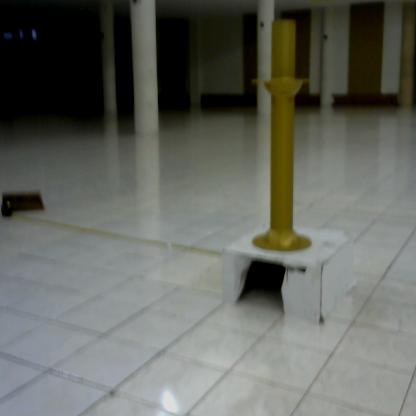pole: (246, 17, 319, 261)
